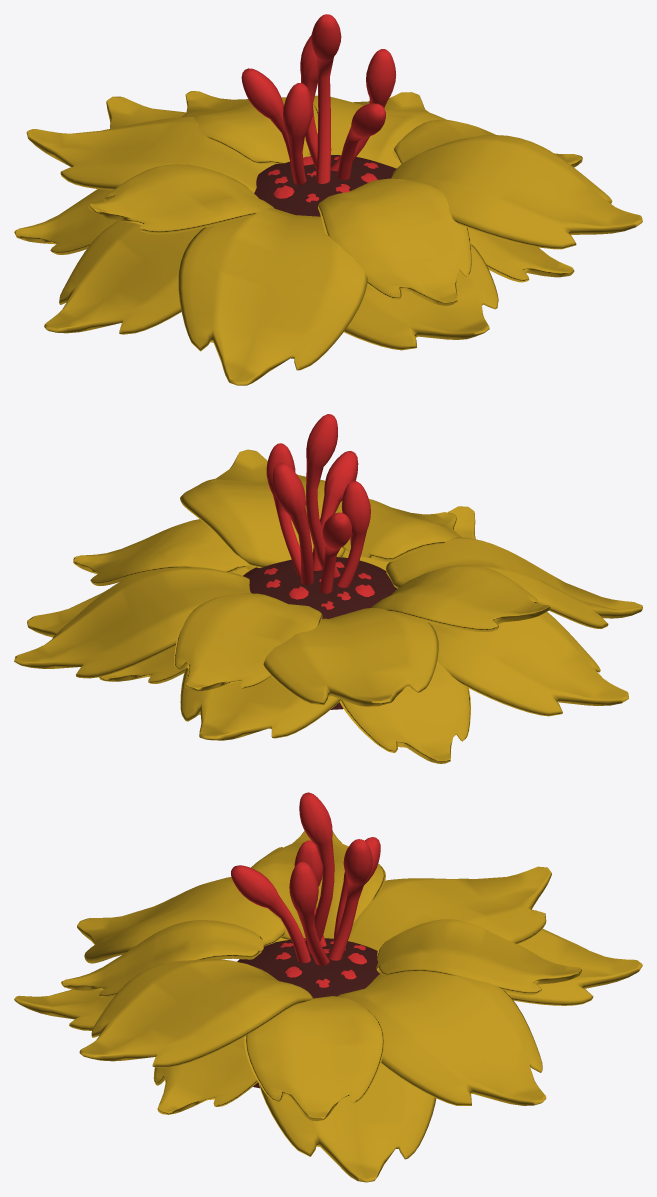
The model's file is SM_plant_03.fbx.
3 views of the same model, one above another, from view 1: azimuth 30°, elevation 25°; view 2: azimuth 150°, elevation 25°; view 3: azimuth 270°, elevation 25° (orthographic). The views are drawn at different scales.
Visible parts, largest first — view 1: Plant_03; view 2: Plant_03; view 3: Plant_03.
Part boxes in pixels (x1,y1,x2,y2): Plant_03: (14,14,642,385); Plant_03: (14,414,642,763); Plant_03: (14,792,642,1182).
Size of the model in its own units: 114 by 50.08 by 111.
